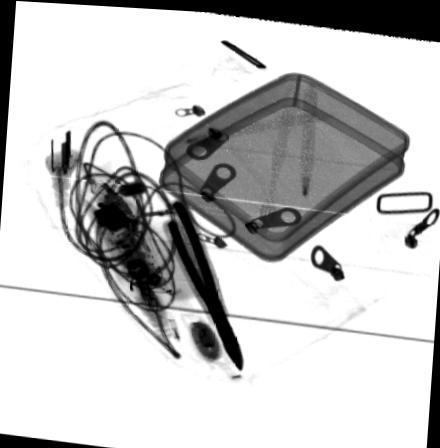Pliers: (161, 197, 244, 369)
